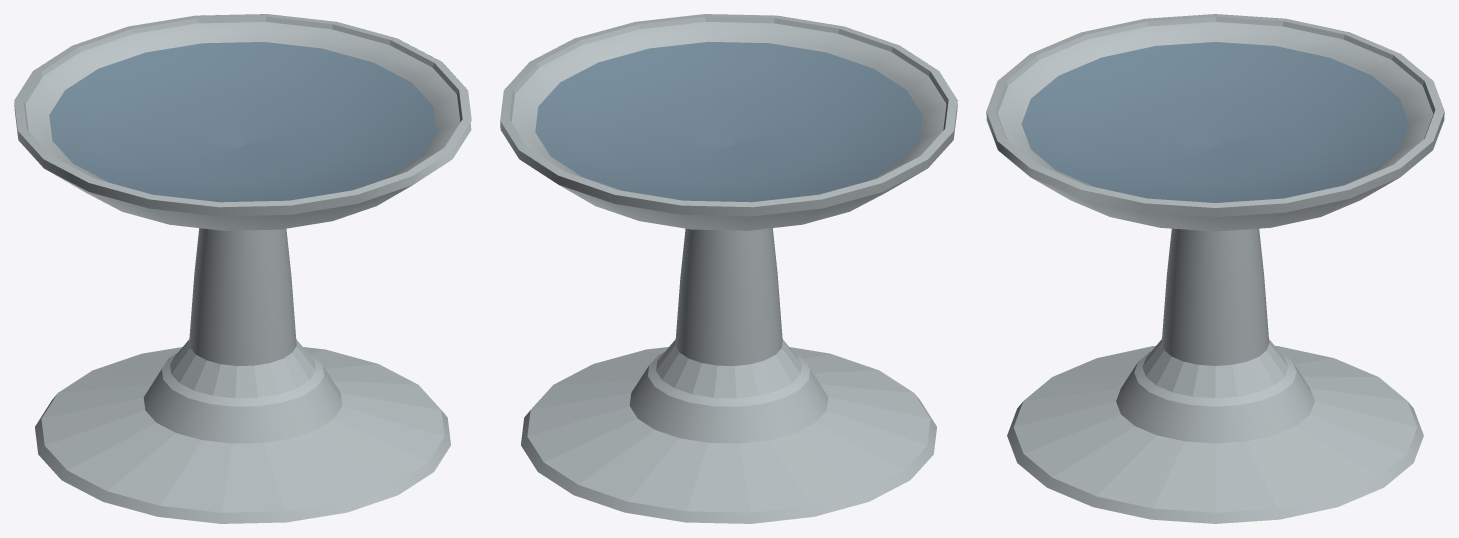
File: Park_fontein.fbx
3 views of the same model, side by side, from view 1: azimuth 30°, elevation 25°; view 2: azimuth 150°, elevation 25°; view 3: azimuth 270°, elevation 25° (orthographic).
Parts seen in each view (by area): view 1: pPipe2; view 2: pPipe2; view 3: pPipe2.
Boxes of the visible parts, x1,y1,x2,y2 form: pPipe2: (14,14,471,523); pPipe2: (500,14,957,523); pPipe2: (986,14,1444,523).
Size of the model in its own units: 4.18 by 3.27 by 4.18.
